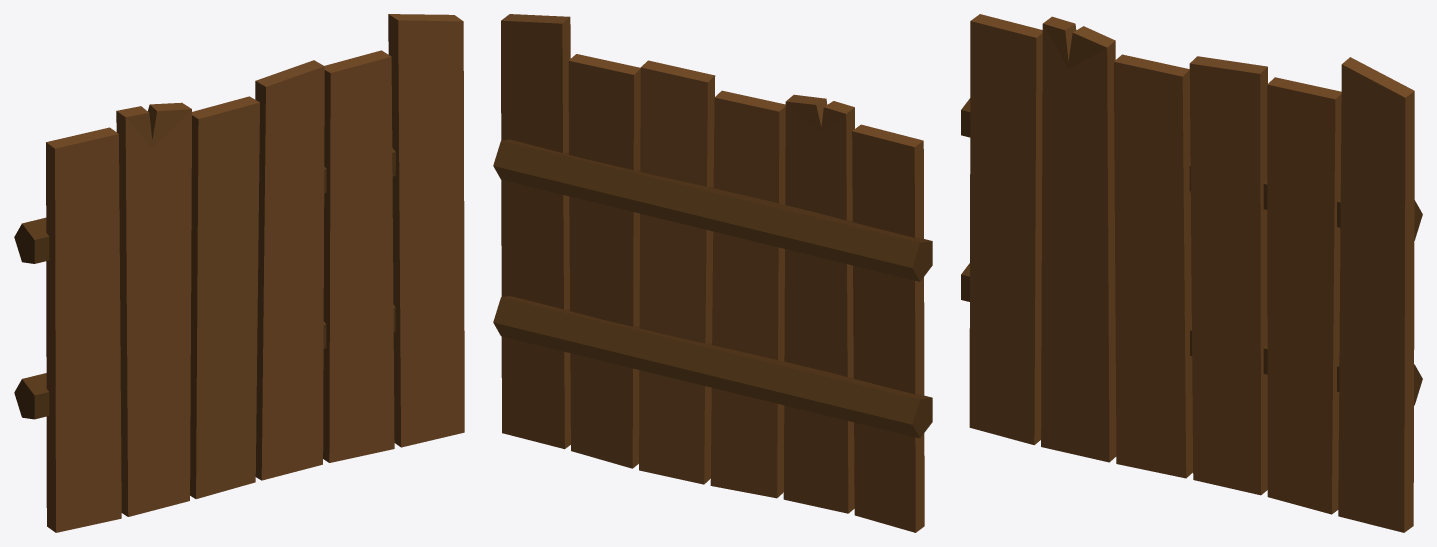
Rendered from E_A_FenceA.fbx.
3 renders of one model, left to right at view 1: azimuth 30°, elevation 25°; view 2: azimuth 150°, elevation 25°; view 3: azimuth 330°, elevation 25°, orthographic. The views are drawn at different scales.
Parts seen in each view (by area): view 1: E_A_FenceA; view 2: E_A_FenceA; view 3: E_A_FenceA.
Boxes of the visible parts, left/top/right/bottom form: E_A_FenceA: left=14, top=14, right=464, bottom=532; E_A_FenceA: left=493, top=14, right=932, bottom=532; E_A_FenceA: left=961, top=14, right=1422, bottom=532.
Size of the model in its own units: 466 by 446 by 57.35.
